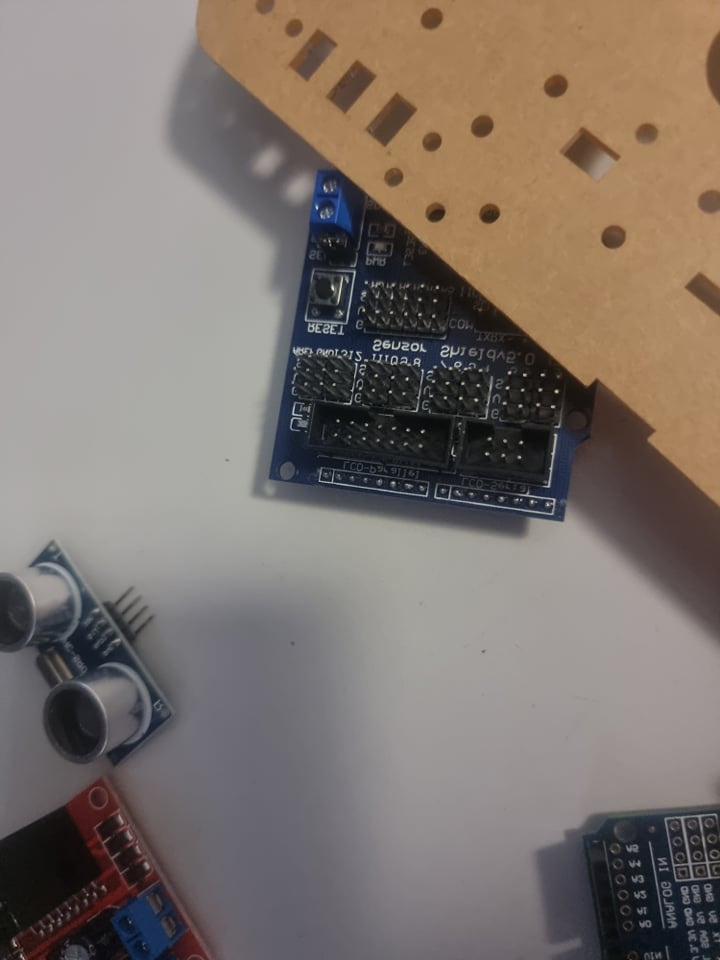5V EXPANSION: (252, 160, 608, 526)
MOTOR: (0, 783, 217, 960)
SENSOR: (0, 534, 173, 764)
